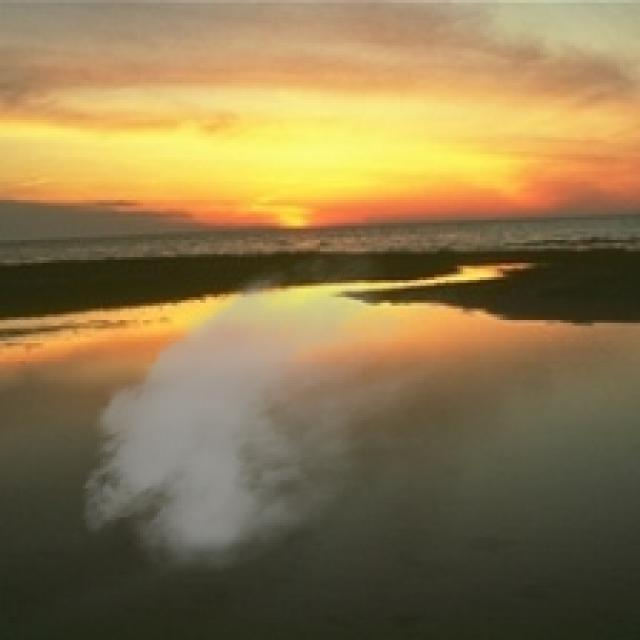Smoke: (69, 237, 458, 589)
